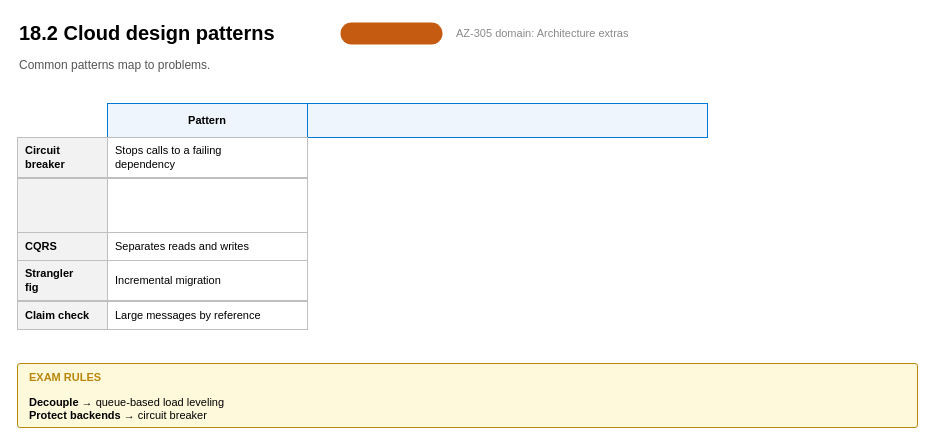
This 935x445 diagram has some shape labels left out. The box of each missing label's shape, as (x1, y1, x2, y2) in pixels:
Decision map: (340, 22, 442, 44)
Queue-based load leveling: (16, 178, 108, 234)
Smooths bursts: (106, 178, 308, 234)
Solves: (306, 102, 708, 138)
